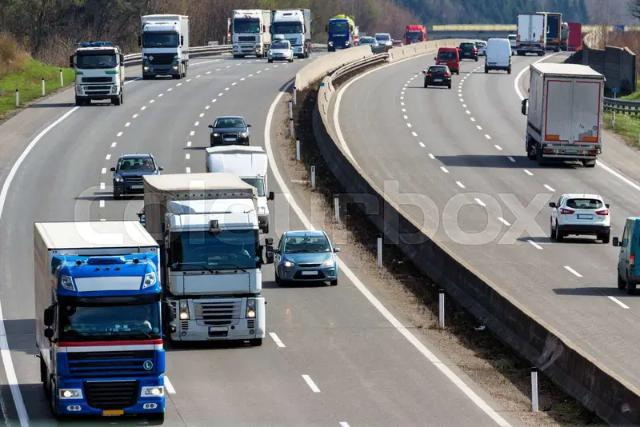car: (275, 225, 340, 289), (549, 193, 611, 243), (110, 153, 162, 199), (207, 116, 252, 147), (423, 65, 452, 89), (457, 41, 479, 61)
truck: (33, 221, 169, 420), (144, 172, 272, 345), (525, 61, 607, 166), (206, 145, 272, 232), (67, 41, 127, 106), (138, 14, 191, 80), (229, 8, 274, 59), (270, 8, 312, 59), (515, 11, 552, 56), (326, 15, 355, 52)
van: (484, 36, 512, 74), (434, 47, 460, 75)
